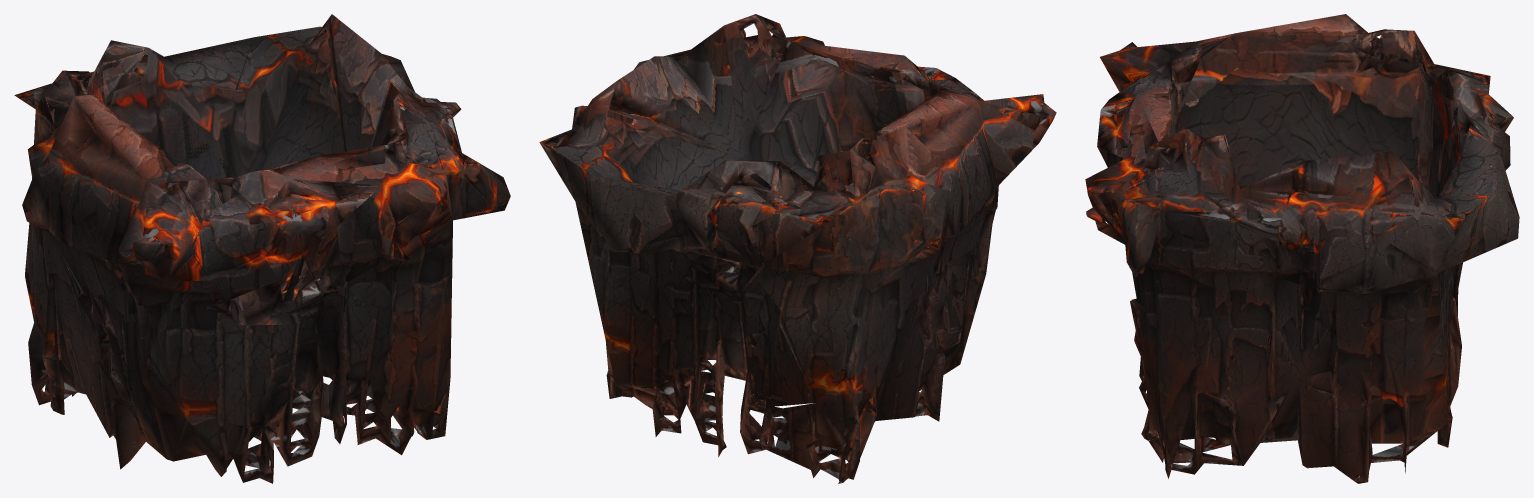
File: Tile_Lava_StairsDown.fbx
3 renders of one model, left to right at view 1: azimuth 30°, elevation 25°; view 2: azimuth 150°, elevation 25°; view 3: azimuth 270°, elevation 25°, orthographic. The views are drawn at different scales.
Parts seen in each view (by area): view 1: texture_mapping; view 2: texture_mapping; view 3: texture_mapping.
Part boxes in pixels (left/top/right/bottom): texture_mapping: left=14, top=14, right=510, bottom=483; texture_mapping: left=539, top=14, right=1056, bottom=483; texture_mapping: left=1085, top=14, right=1519, bottom=483.
Size of the model in its own units: 0.9686 by 0.9617 by 0.8358.
Materials: 1 (1 with a texture image).
